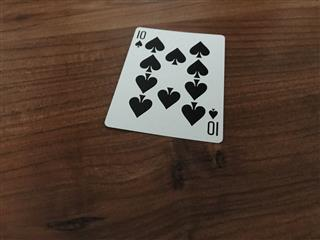TenOfSpades: (102, 25, 227, 145)
